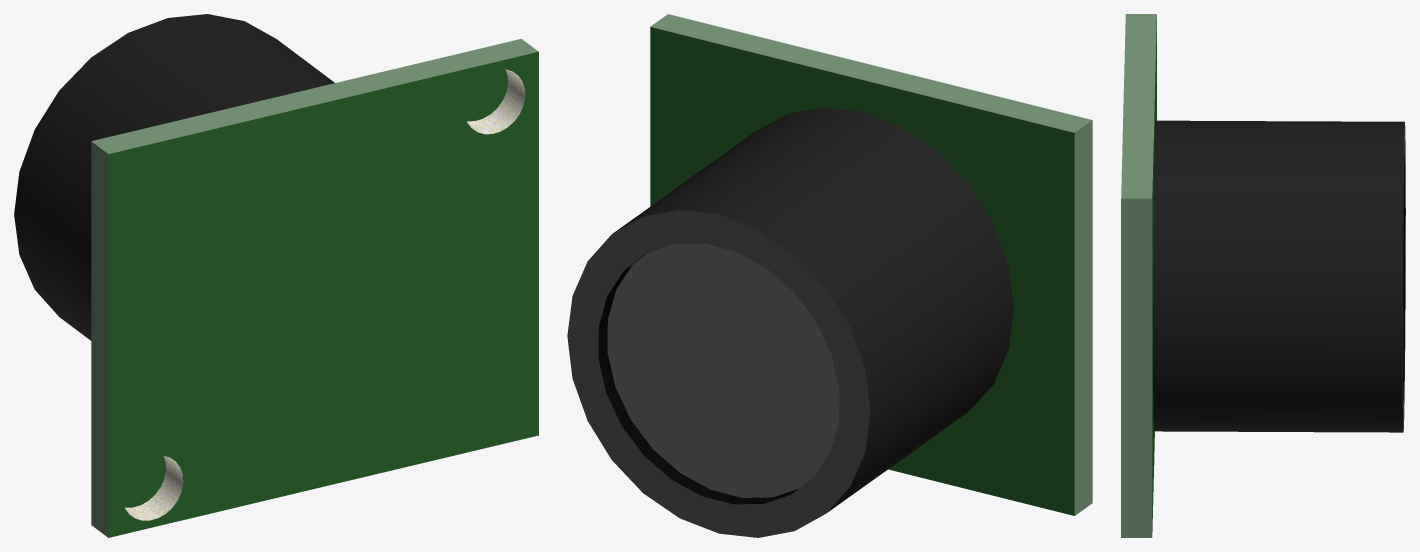
File: Sonar.dae
3 renders of one model, left to right at view 1: azimuth 30°, elevation 25°; view 2: azimuth 150°, elevation 25°; view 3: azimuth 270°, elevation 25°, orthographic. The views are drawn at different scales.
Visible parts, largest first — view 1: LV_Max_Ultrasonic_Rangefinder (×7); view 2: LV_Max_Ultrasonic_Rangefinder (×7); view 3: LV_Max_Ultrasonic_Rangefinder (×5).
Boxes of the visible parts, x1=… form: LV_Max_Ultrasonic_Rangefinder (×7): x1=14, y1=14, x2=538, y2=537; LV_Max_Ultrasonic_Rangefinder (×7): x1=567, y1=14, x2=1092, y2=537; LV_Max_Ultrasonic_Rangefinder (×5): x1=1121, y1=14, x2=1405, y2=537.
Bounding box in the file's own units: 0.8756 × 0.5703 × 0.75.
